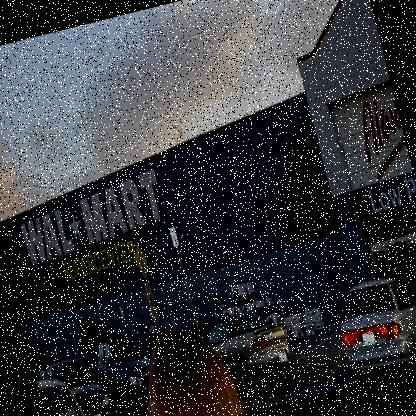Car: (332, 270, 415, 386), (201, 304, 297, 399), (91, 332, 164, 415), (46, 352, 120, 415), (36, 367, 107, 415)
